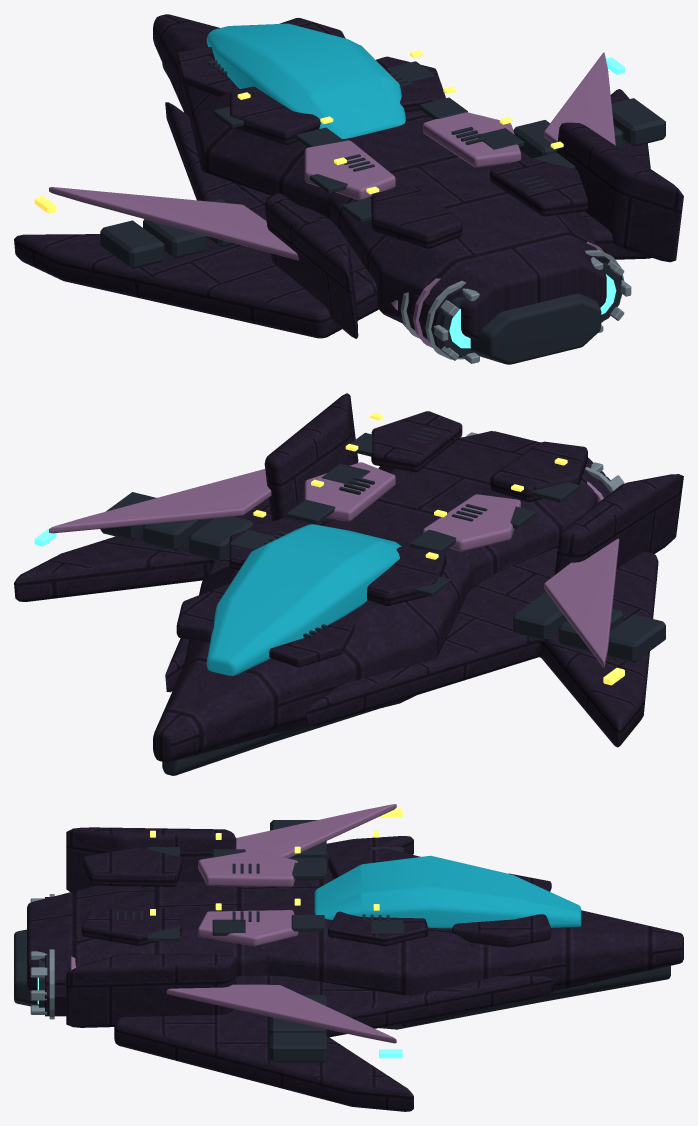
Rendered from specter.glb.
The picture shows the model from 3 angles, top to bottom: view 1: azimuth 30°, elevation 25°; view 2: azimuth 150°, elevation 25°; view 3: azimuth 270°, elevation 25°; orthographic projection. The views are drawn at different scales.
Visible parts, largest first — view 1: Gôndola do motor.049 · exportação, Bocal do motor.049 · exportação, Colar da turbina.148 · exportação, Cabine panorâmica.024 · exportação, Aleta do bocal.399 · exportação, Núcleo propulsor.049 · exportação, Luz de serviço.199 · exportação; view 2: Gôndola do motor.049 · exportação, Colar da turbina.148 · exportação, Cabine panorâmica.024 · exportação, Bocal do motor.049 · exportação, Luz de serviço.199 · exportação; view 3: Gôndola do motor.049 · exportação, Colar da turbina.148 · exportação, Cabine panorâmica.024 · exportação, Bocal do motor.049 · exportação, Aleta do bocal.399 · exportação, Luz de serviço.199 · exportação.
Part boxes in pixels (left/top/right/bottom): Gôndola do motor.049 · exportação: left=14, top=14, right=683, bottom=357; Bocal do motor.049 · exportação: left=100, top=60, right=665, bottom=364; Colar da turbina.148 · exportação: left=49, top=52, right=615, bottom=347; Cabine panorâmica.024 · exportação: left=206, top=23, right=405, bottom=138; Aleta do bocal.399 · exportação: left=400, top=250, right=631, bottom=363; Núcleo propulsor.049 · exportação: left=449, top=57, right=624, bottom=348; Luz de serviço.199 · exportação: left=34, top=50, right=563, bottom=213; Gôndola do motor.049 · exportação: left=14, top=393, right=683, bottom=762; Colar da turbina.148 · exportação: left=49, top=462, right=619, bottom=667; Cabine panorâmica.024 · exportação: left=206, top=524, right=401, bottom=675; Bocal do motor.049 · exportação: left=100, top=427, right=665, bottom=775; Luz de serviço.199 · exportação: left=253, top=413, right=624, bottom=685; Gôndola do motor.049 · exportação: left=27, top=827, right=683, bottom=1111; Colar da turbina.148 · exportação: left=71, top=804, right=396, bottom=1043; Cabine panorâmica.024 · exportação: left=314, top=855, right=581, bottom=928; Bocal do motor.049 · exportação: left=14, top=820, right=670, bottom=1062; Aleta do bocal.399 · exportação: left=30, top=894, right=54, bottom=1019; Luz de serviço.199 · exportação: left=150, top=808, right=402, bottom=915.
Bounding box in the file's own units: 46.24 × 11.1 × 50.92.
Materials: 7 (1 with a texture image).
